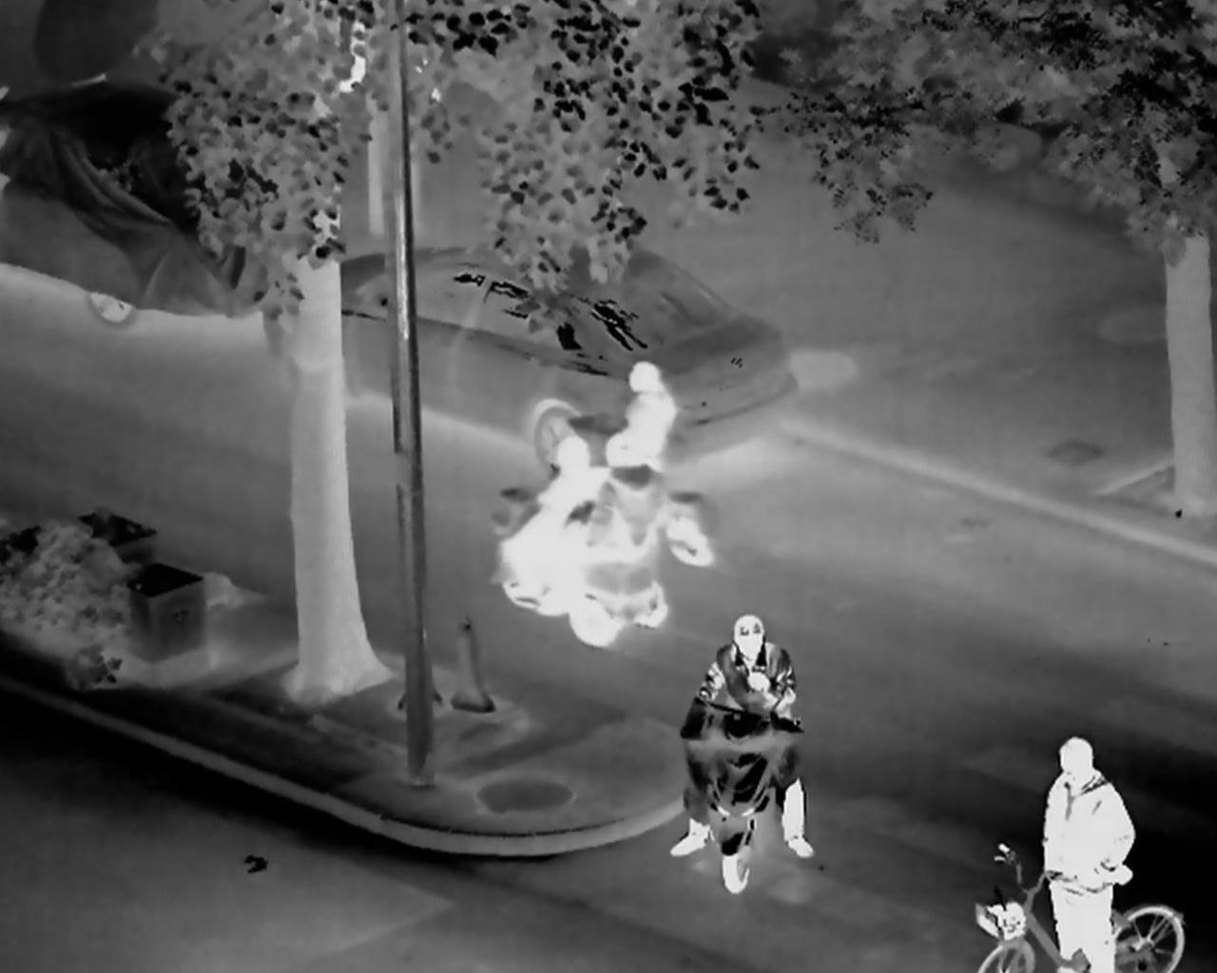person: (674, 609, 830, 896), (1003, 720, 1152, 973), (599, 423, 668, 633), (515, 424, 593, 609), (608, 356, 684, 535)
